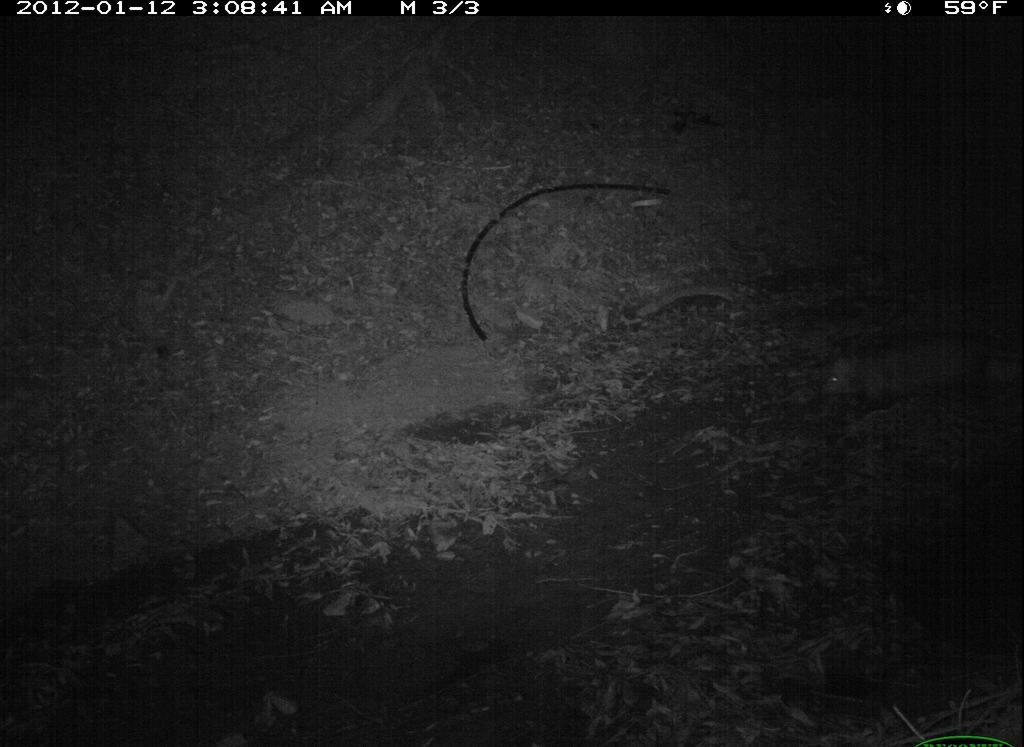opossum: (820, 322, 1023, 429)
